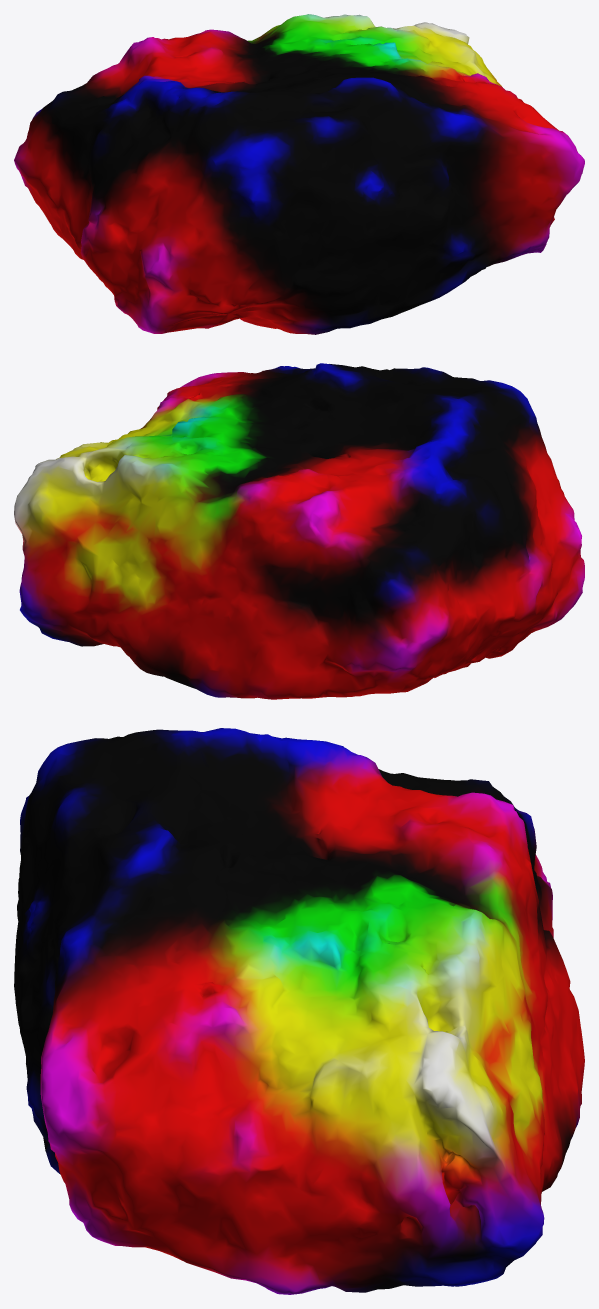
File: SM_LVMaterialSample_Rock_0.FBX
3 renders of one model, top to bottom at view 1: azimuth 30°, elevation 25°; view 2: azimuth 150°, elevation 25°; view 3: azimuth 270°, elevation 25°, orthographic. The views are drawn at different scales.
Parts seen in each view (by area): view 1: SM_LVMaterialSample_Rock_0_LOD0; view 2: SM_LVMaterialSample_Rock_0_LOD0; view 3: SM_LVMaterialSample_Rock_0_LOD0.
Boxes of the visible parts, x1,y1,x2,y2 form: SM_LVMaterialSample_Rock_0_LOD0: (14, 14, 584, 334); SM_LVMaterialSample_Rock_0_LOD0: (14, 363, 584, 699); SM_LVMaterialSample_Rock_0_LOD0: (14, 728, 584, 1294).
Bounding box in the file's own units: 284 × 149 × 212.
